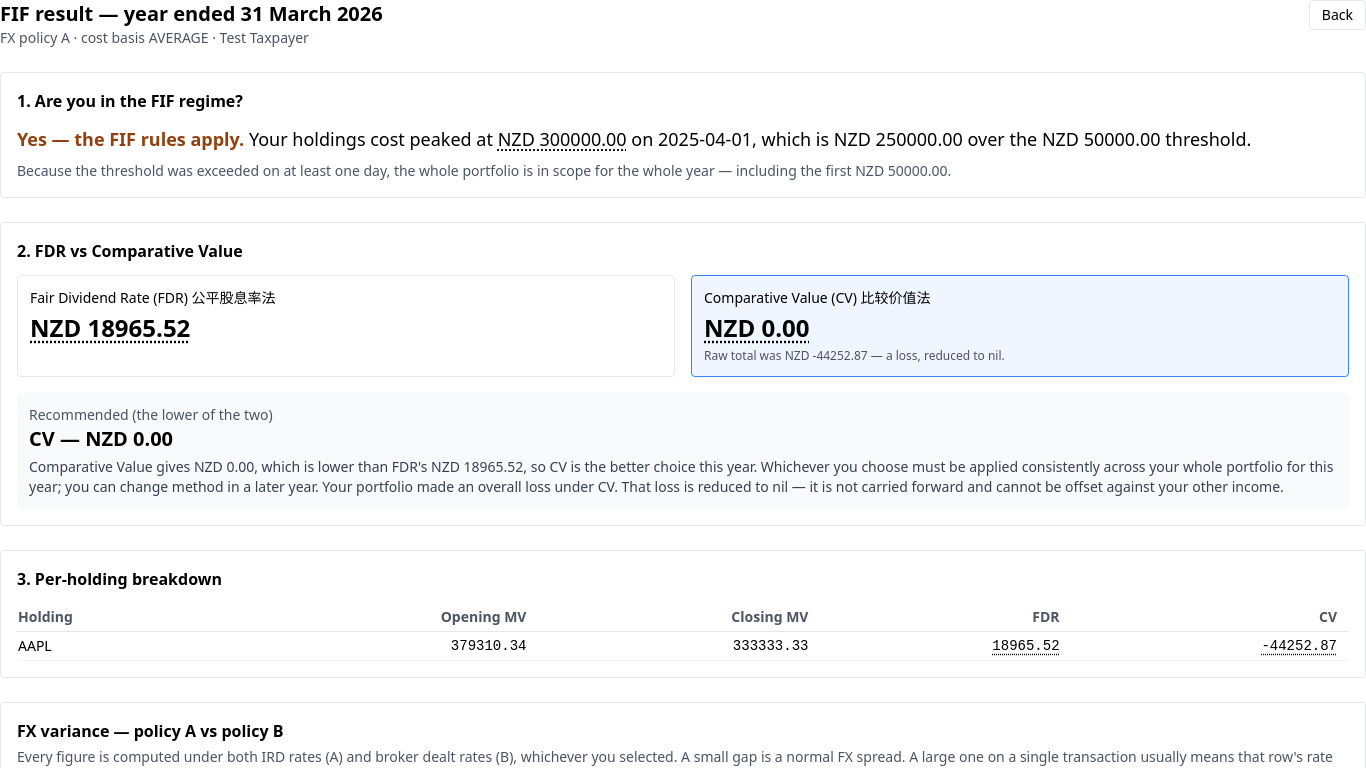
it: ResultsScreen — GT-1 through the real engine › explains that the CV loss is extinguished rather than carried forward
Step 1. Click the button "NZD 0.00" → click(757, 328), box [704,312,809,344]
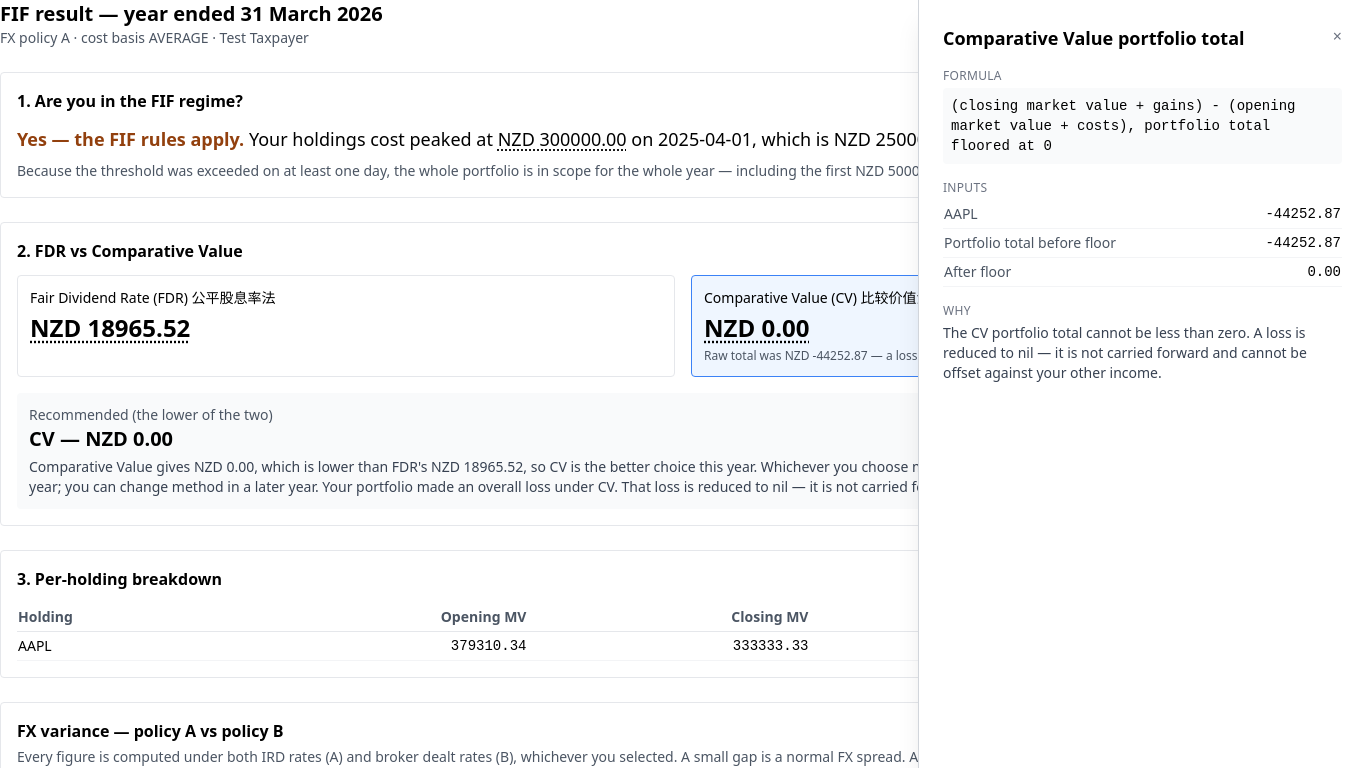
Result: the text "not carried forward" is shown at [943,323,1307,382]
